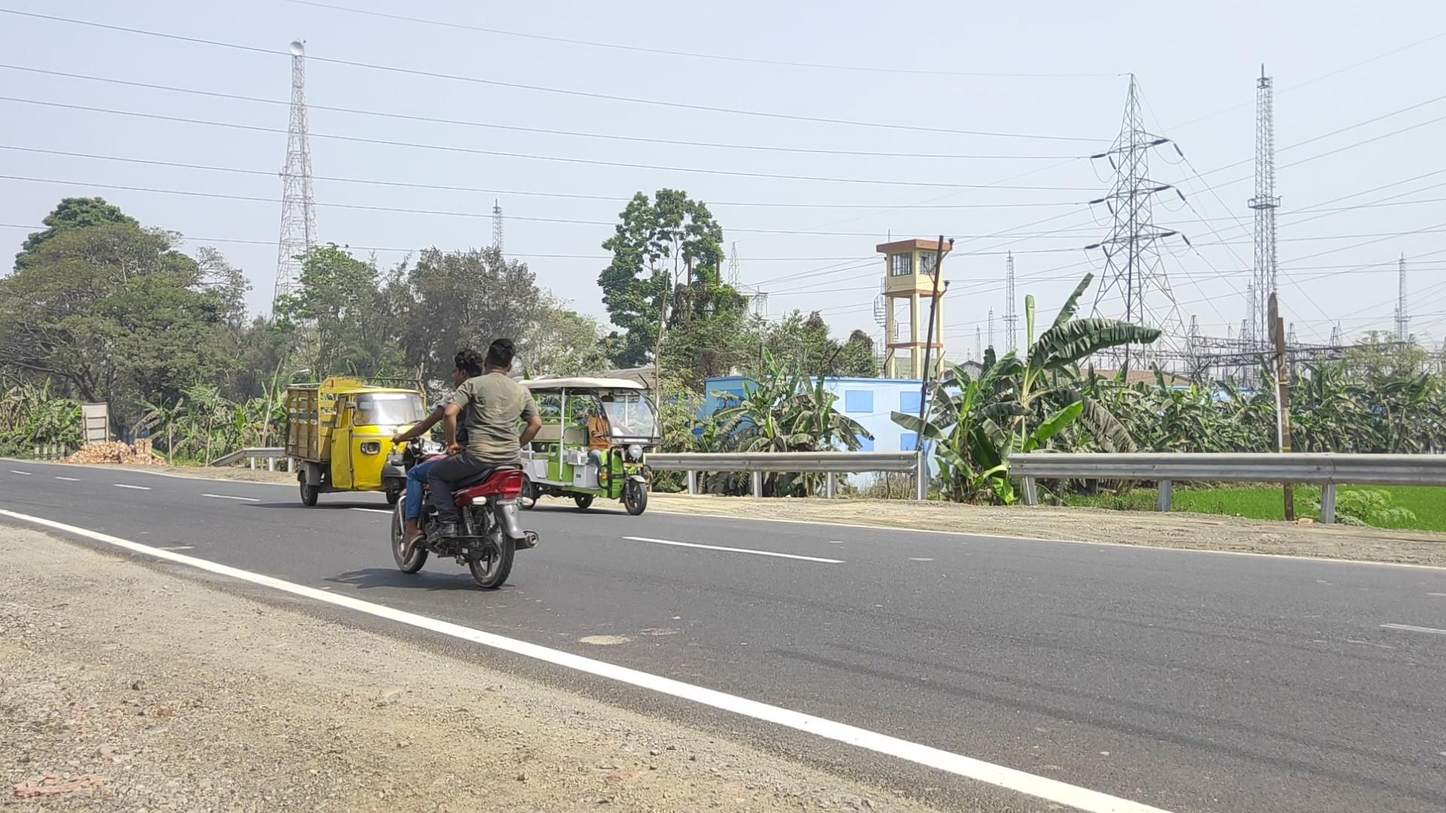Auto: (515, 377, 666, 516)
bike: (390, 340, 539, 589)
van: (286, 375, 436, 507)
